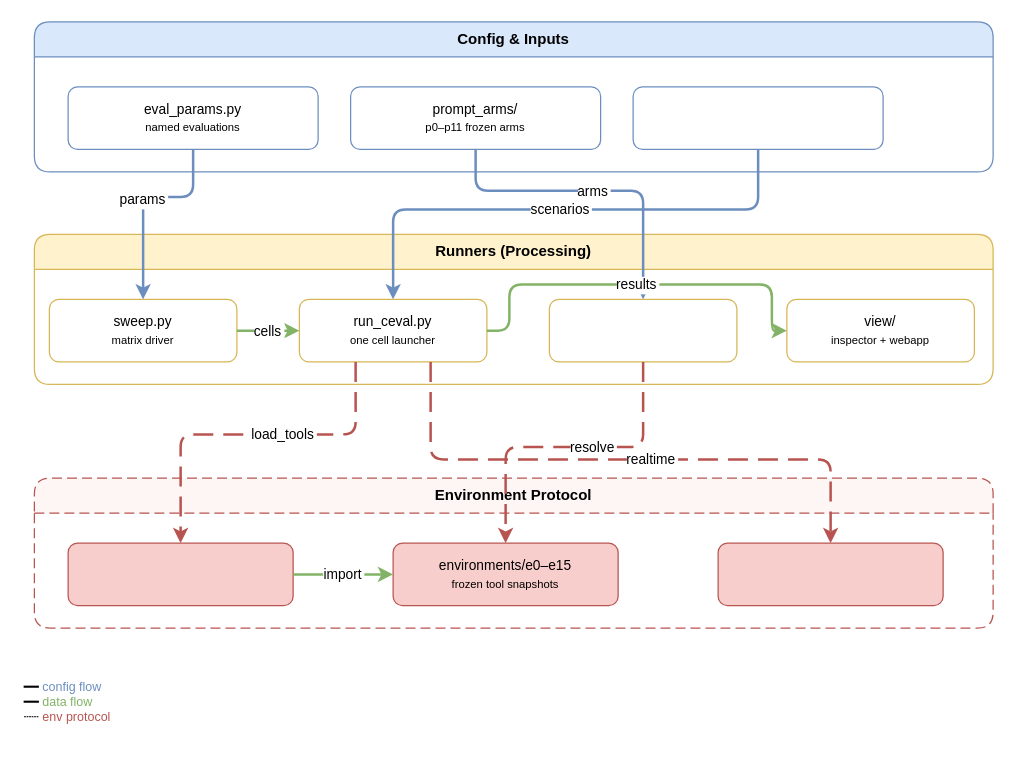
Some shapes in this 1015 by 769 pixel diagram are drawn without their labels. The shapes that lost their labels are listed below. From the top down, each one's centre as x and y in pixels, then its label:
At point 757,117: "datasets/ prompts & scenarios".
At point 642,330: "prompt_runner.py prompt inspection".
At point 180,574: "registry.py resolve + load".
At point 830,574: "convai/ submodule pinned product SHA".
